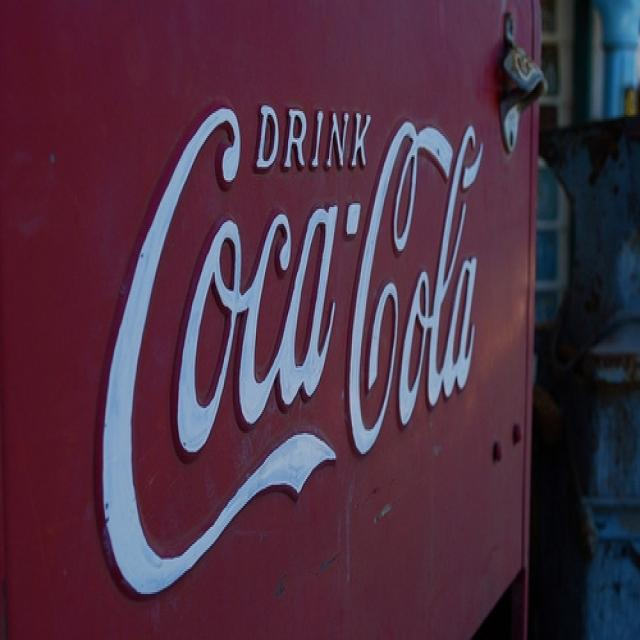cocacola: (83, 95, 508, 614)
